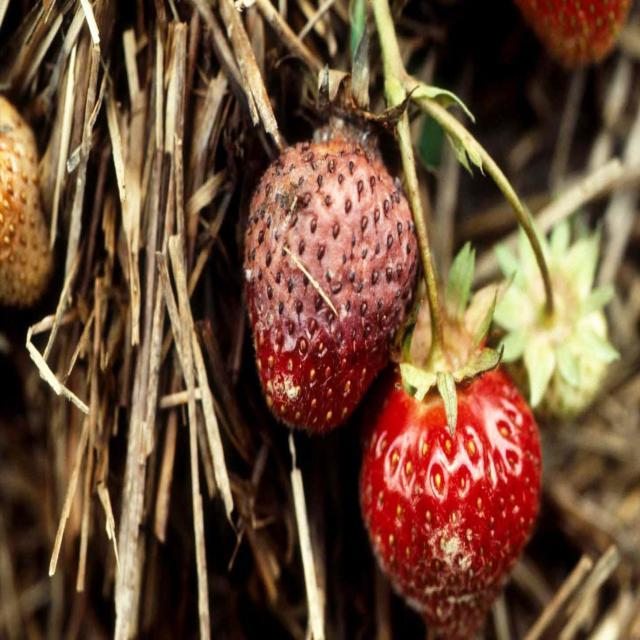Fruta sana: (378, 367, 543, 640)
Podredumbre de cuero: (242, 139, 416, 433)
